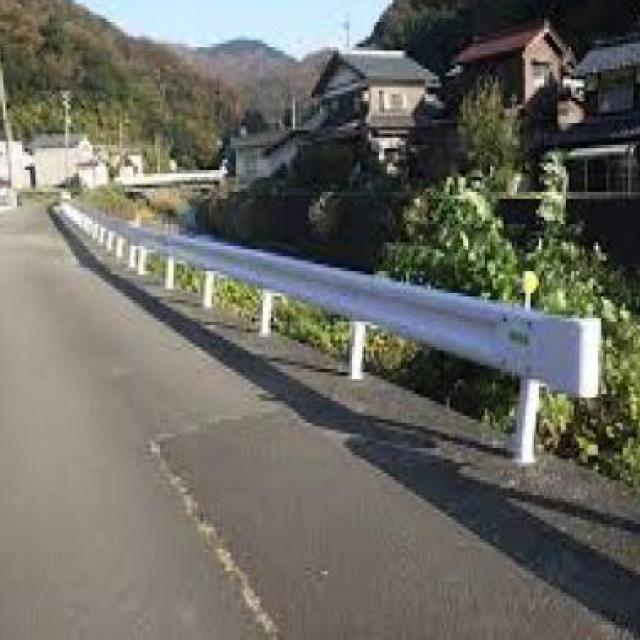Guard rail: (60, 185, 605, 482)
